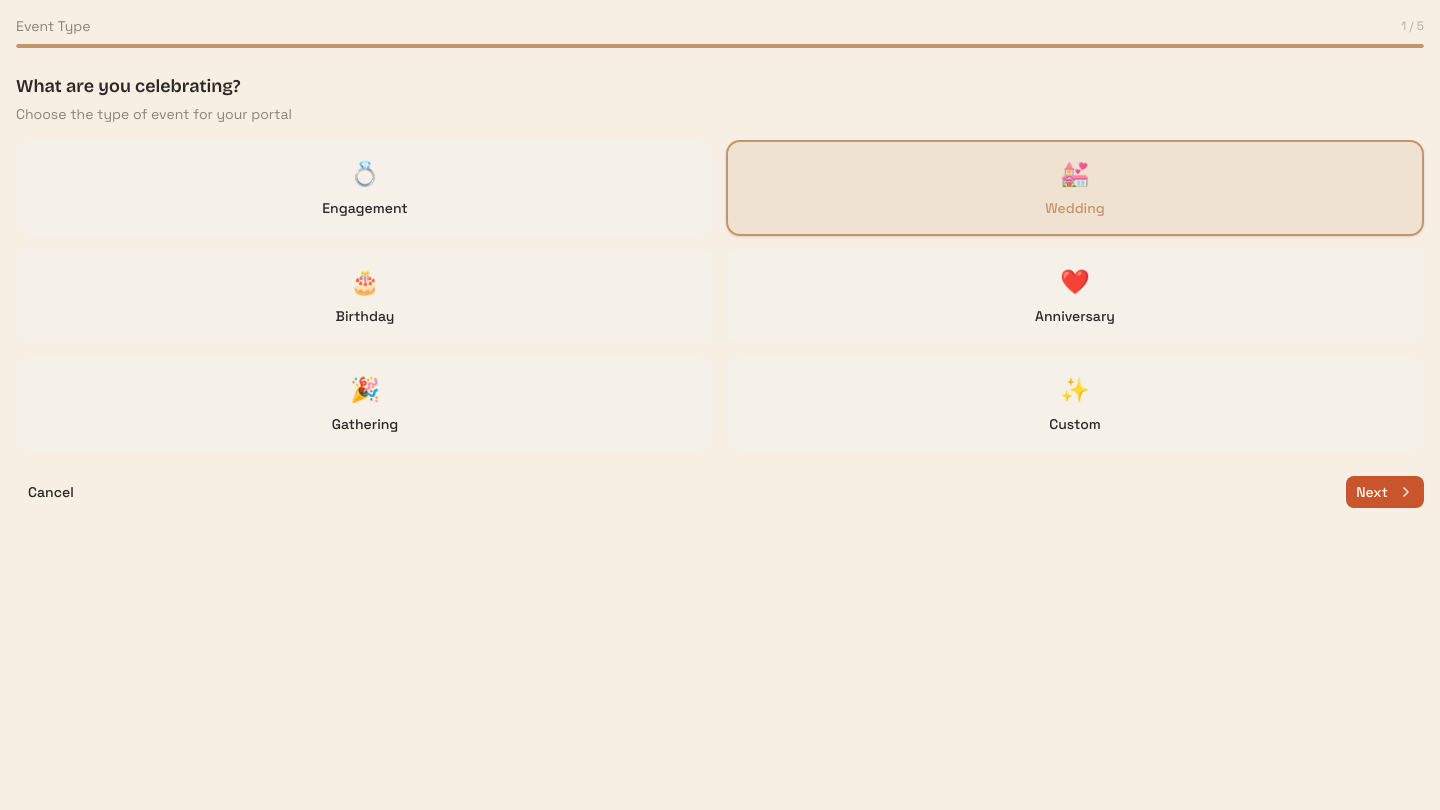
it: PortalCreationWizard › navigates to step 4 (Template) from step 3
# Step 1 → 2 → 3 → 4
Click the button "Next". click: (1385, 492)
box: [1346,476,1424,508]
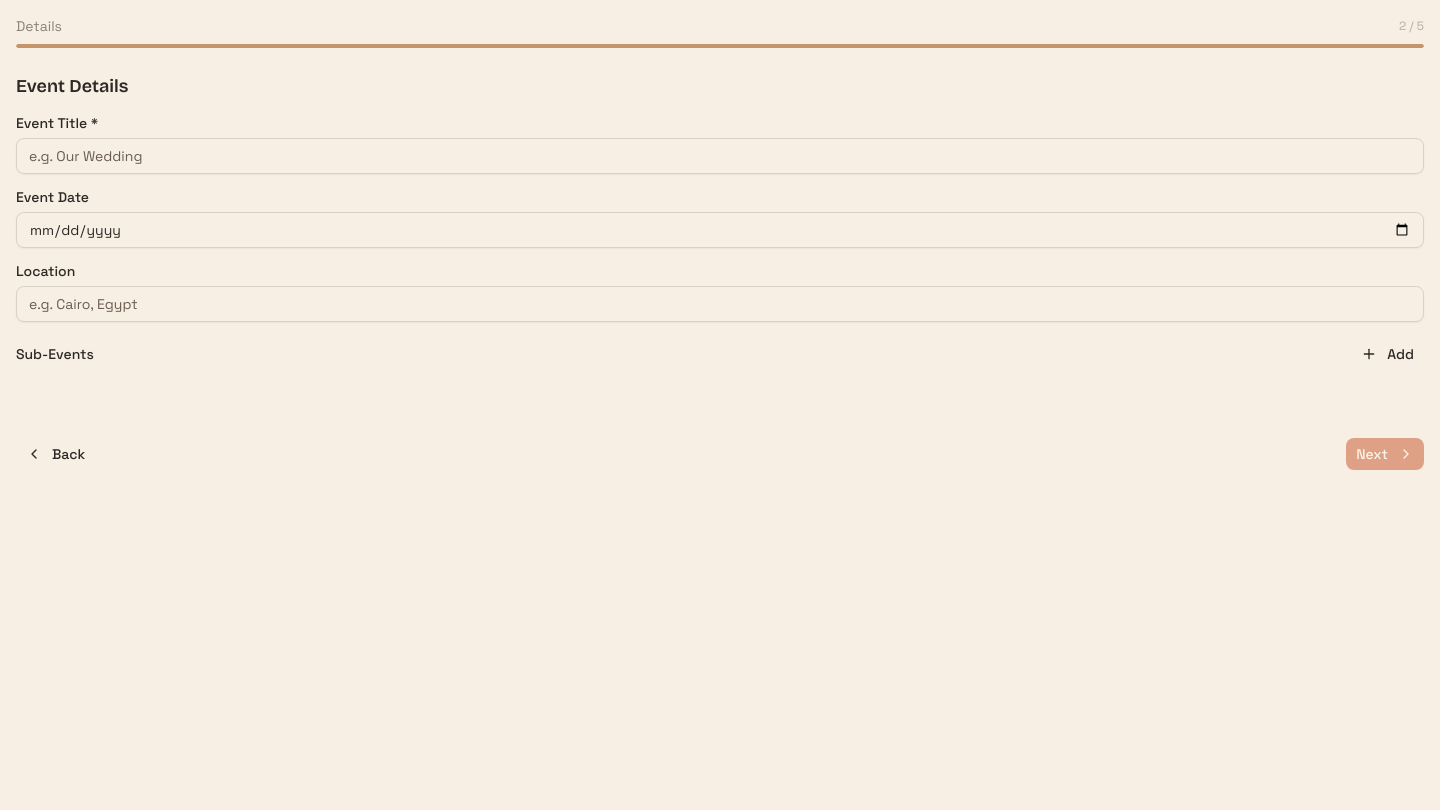
Type "My Event" into the field with test id "portal-title-input". click: (720, 156)
box: [16,138,1424,174]
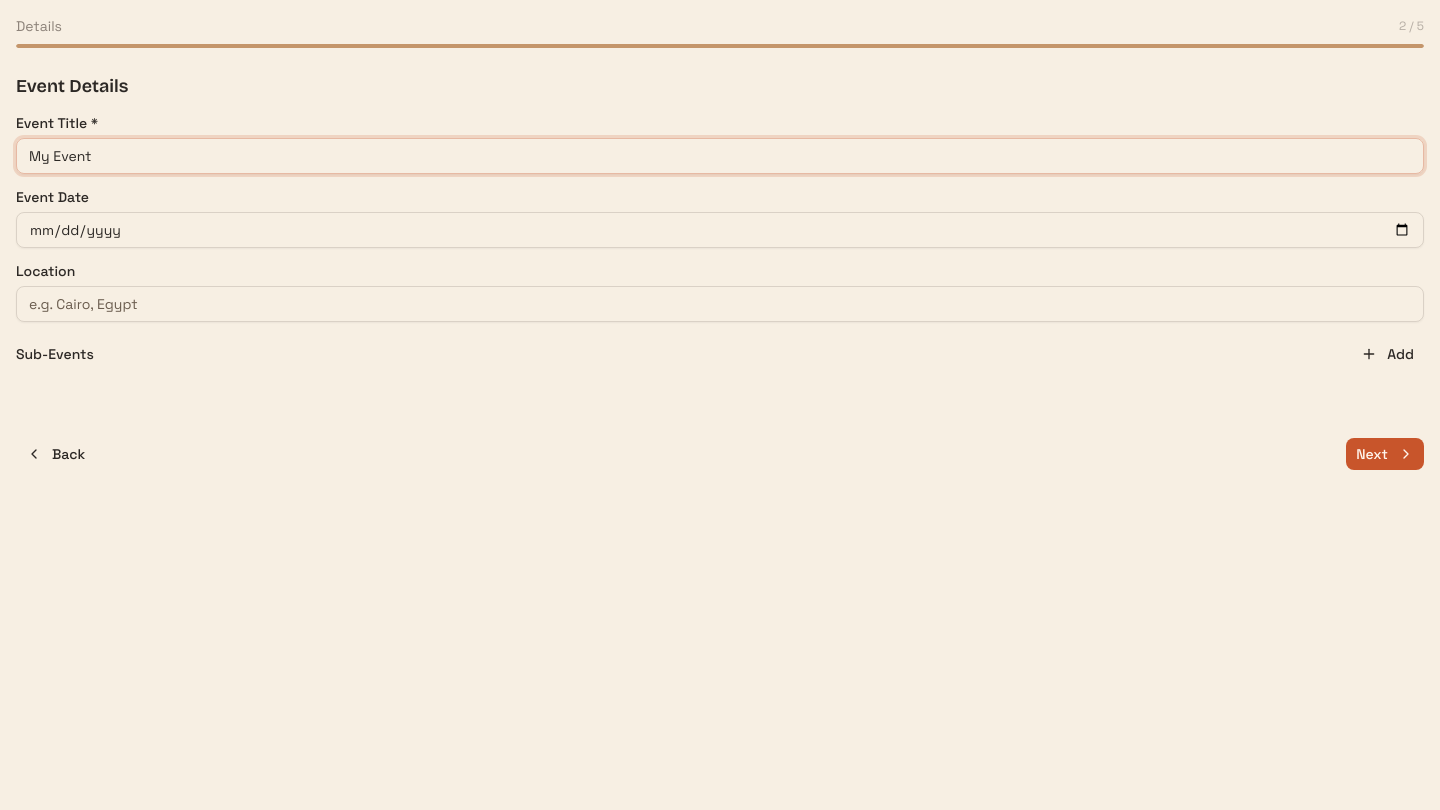
Click the button "Next". click: (1385, 454)
box: [1346,438,1424,470]
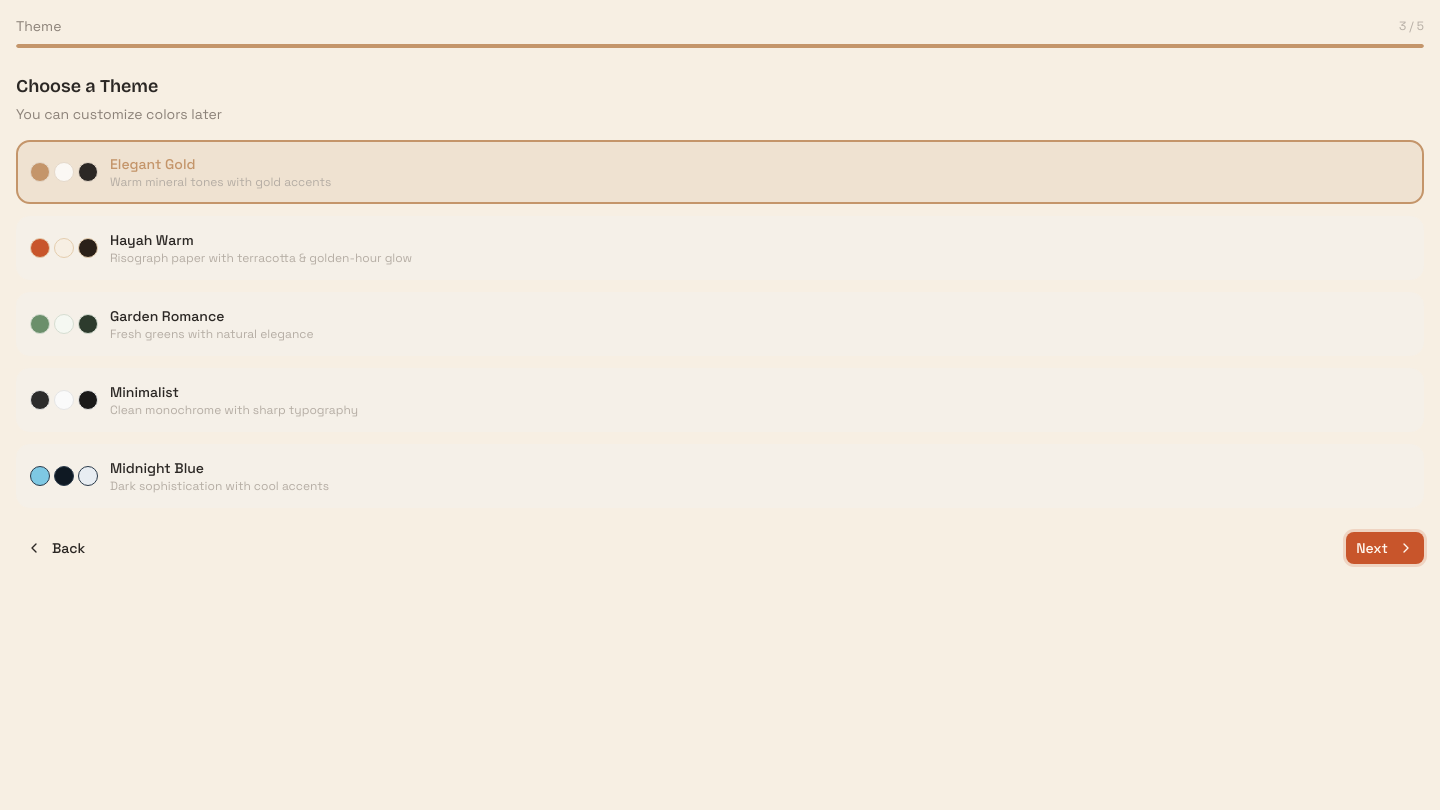
Click the button "Next". click: (1385, 548)
box: [1346,532,1424,564]
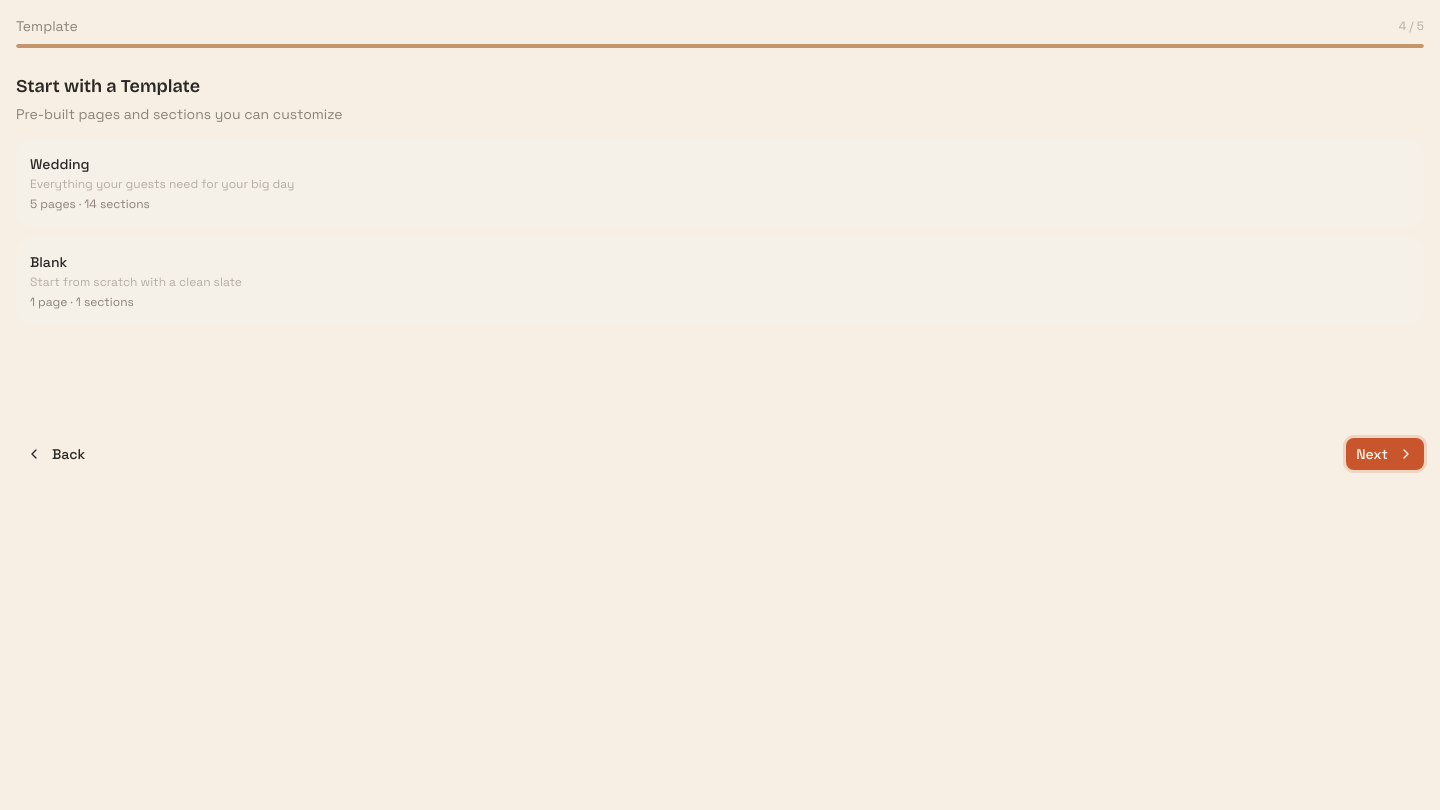
Expected: the heading "Start with a Template" is shown, [16,75,200,97]
Expected: the text "4 / 5" is shown, [1399,18,1424,34]
